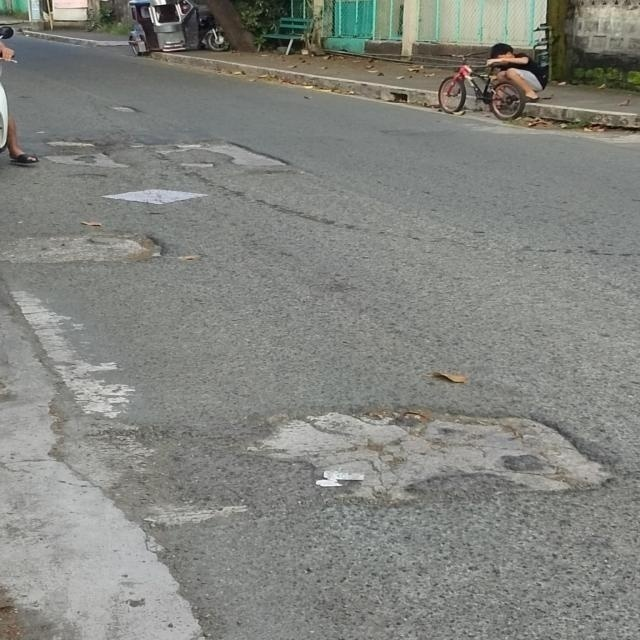pothole: (199, 350, 640, 530), (38, 138, 330, 284)
